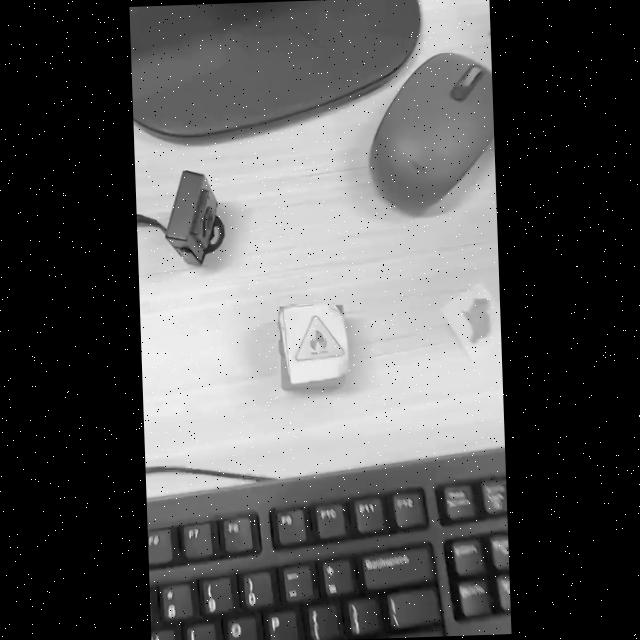Fire: (295, 315, 344, 360)
